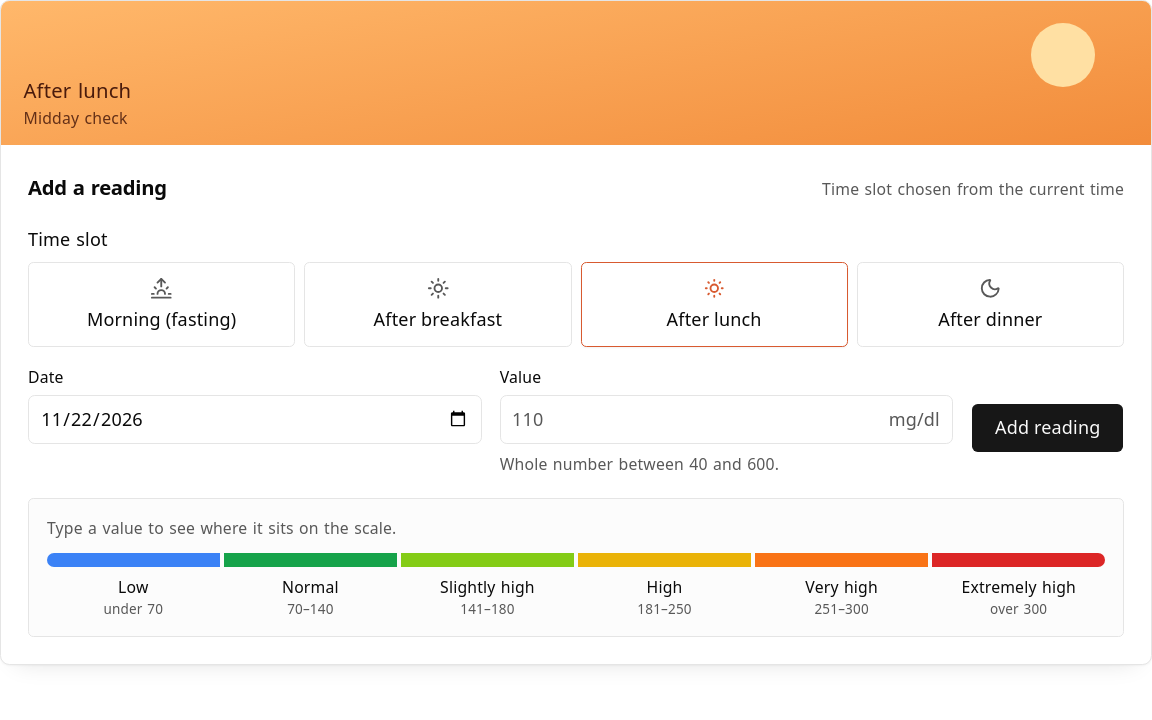
AddReadingCard: saving › shows the server's 4-per-day message
Type "150" into the field labelled "Value".
click(727, 419); type("150")  # box [500, 394, 953, 444]
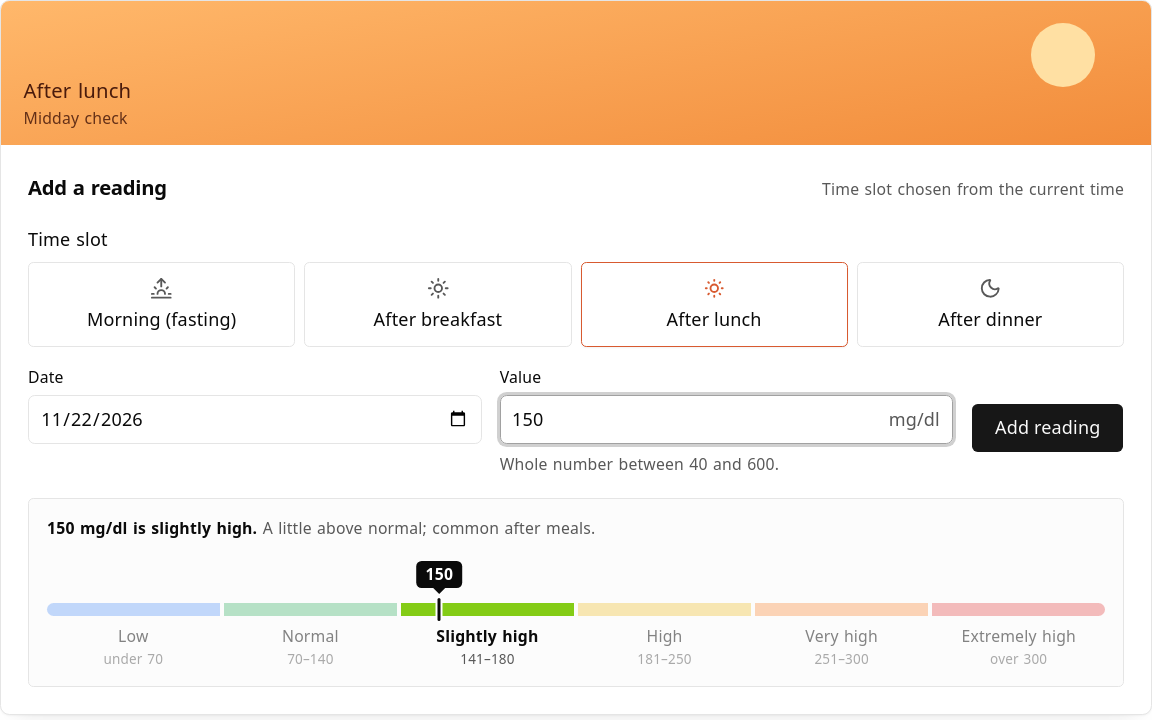
Click the button "Add reading".
click(1048, 428)  # box [972, 403, 1124, 452]
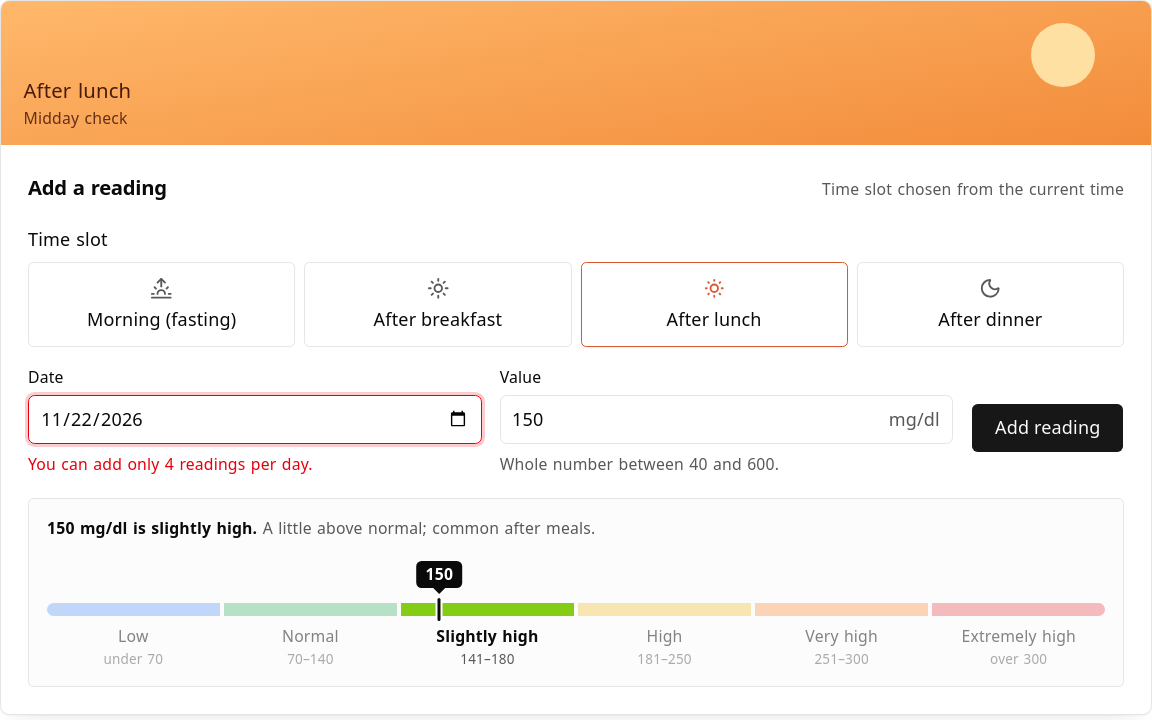
expect the text "You can add only 4 readings per day." is shown: met, box [28, 453, 313, 475]
